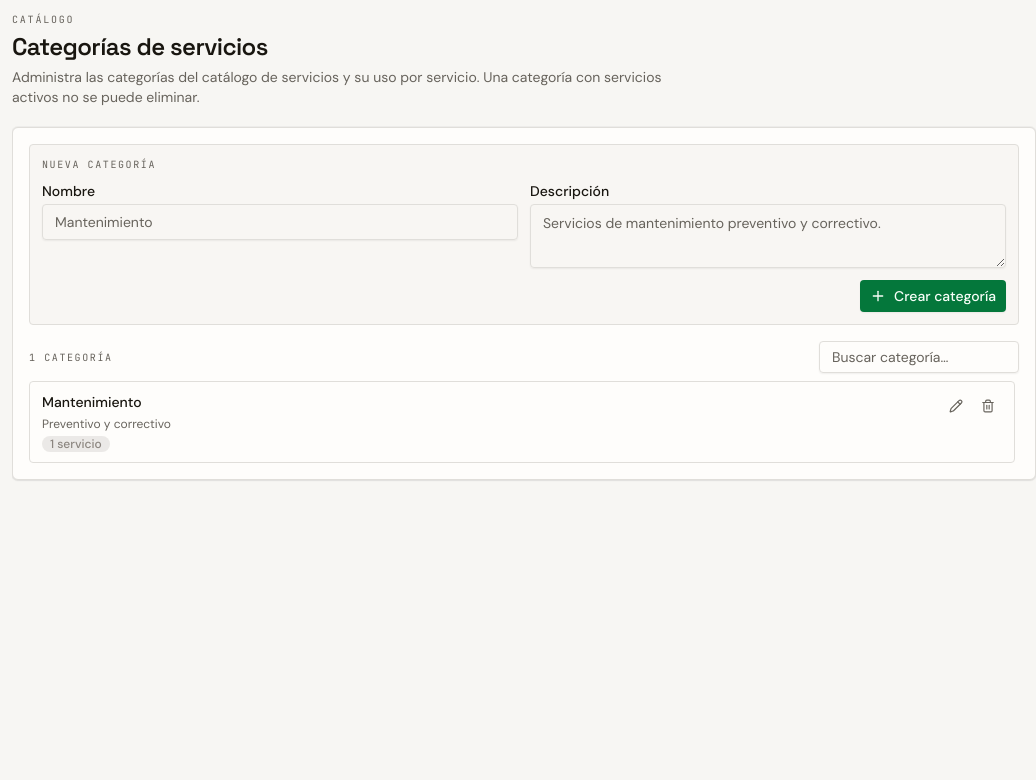
Test: ServiceCategoriesPage › surfaces the backend refusal when a category is still in use
Expected: the text "Mantenimiento" is shown, top-left (42, 393), bottom-right (142, 411)
Click the button with test id "service_categories.delete_button.1". click: (988, 406)
box: top-left (974, 392), bottom-right (1002, 420)
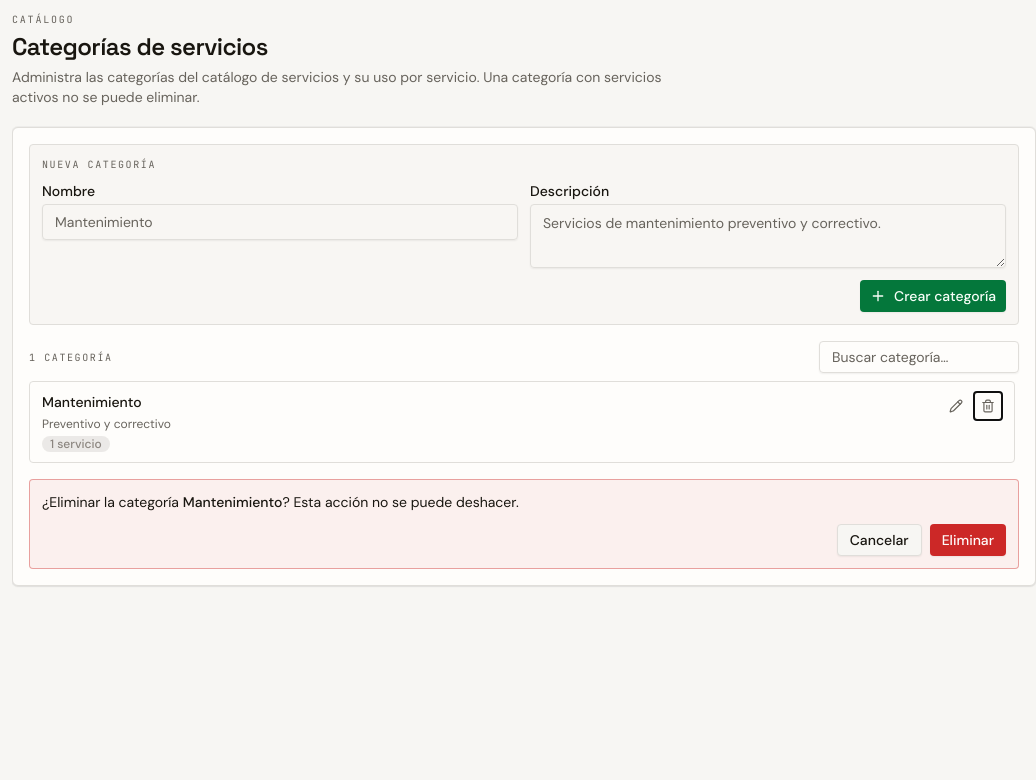
Click the button with test id "service_categories.delete_confirm_button". click: (968, 540)
box: top-left (930, 524), bottom-right (1006, 556)
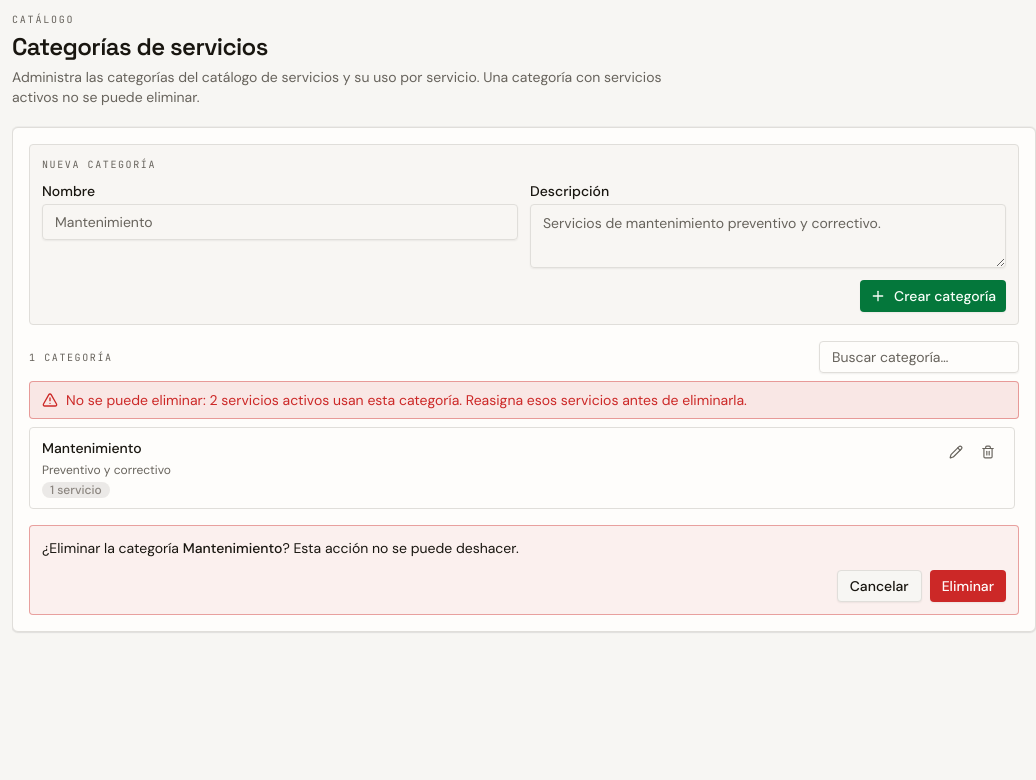
Result: the element with test id "service_categories.delete_error" shows "No se puede eliminar: 2 servicios activos" at top-left (66, 391), bottom-right (747, 409)
